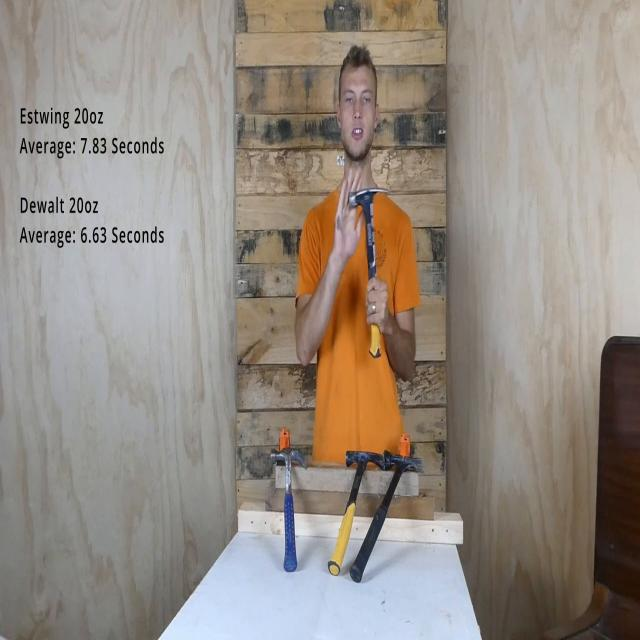hammer: (350, 452, 424, 584), (348, 185, 390, 359), (327, 452, 385, 576), (270, 447, 306, 571)
